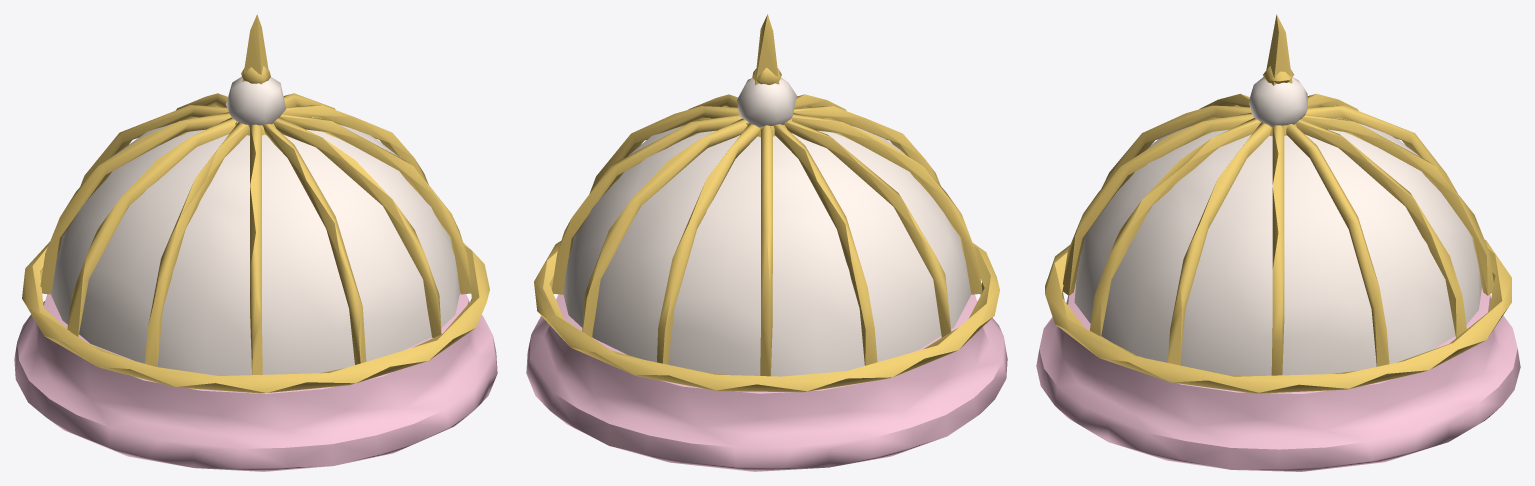
The model's file is roof_dome_small.glb.
The picture shows the model from 3 angles, left to right: view 1: azimuth 30°, elevation 25°; view 2: azimuth 150°, elevation 25°; view 3: azimuth 270°, elevation 25°; orthographic projection.
Visible parts, largest first — view 1: roof_dome_small; view 2: roof_dome_small; view 3: roof_dome_small.
Boxes of the visible parts, <box> form: roof_dome_small: <box>14,14,497,471</box>; roof_dome_small: <box>526,14,1007,471</box>; roof_dome_small: <box>1036,14,1520,471</box>.
Bounding box in the file's own units: 3.22 × 2.65 × 3.22.
